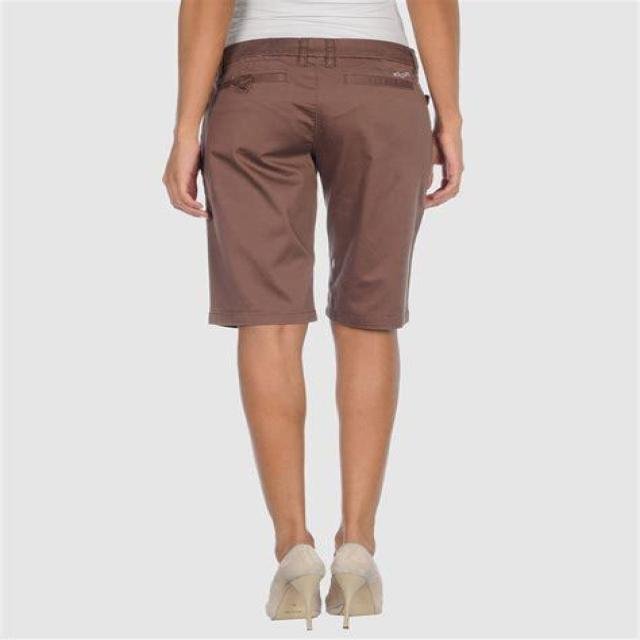short: (200, 35, 436, 328)
